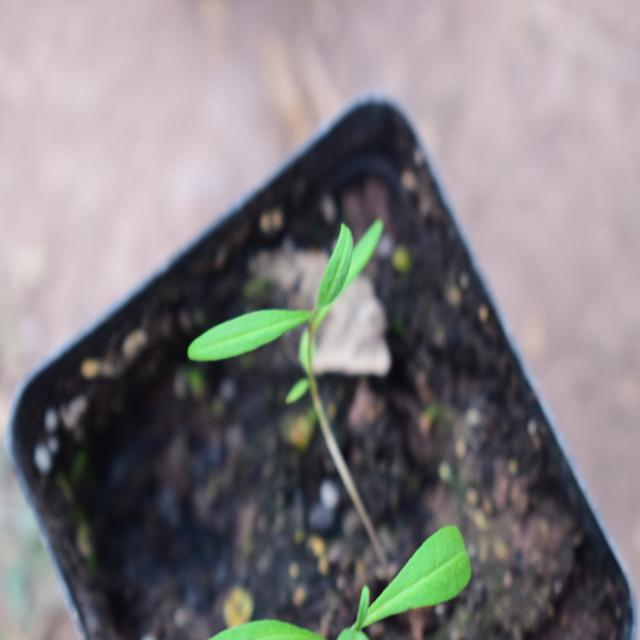white_smart_weed: (199, 227, 395, 390)
